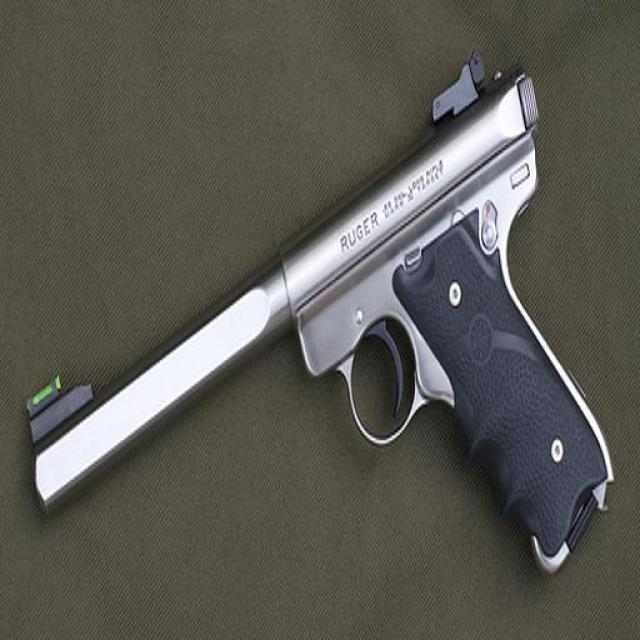pistol: (25, 51, 611, 575)
